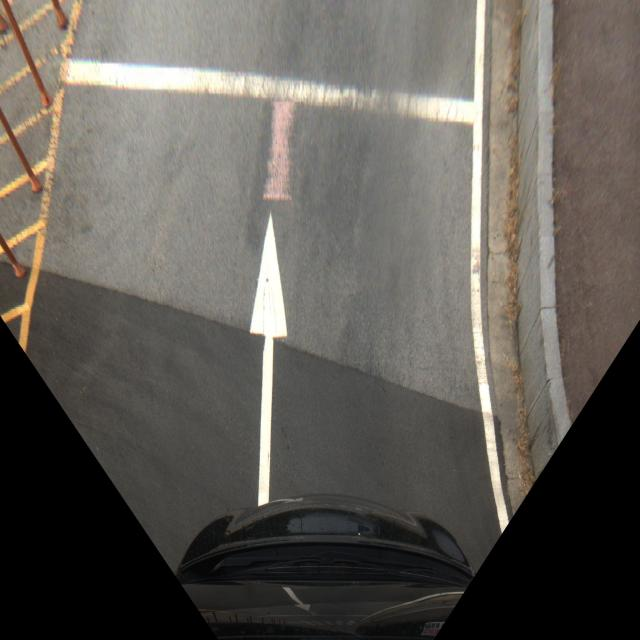forward: (67, 61, 497, 514)
